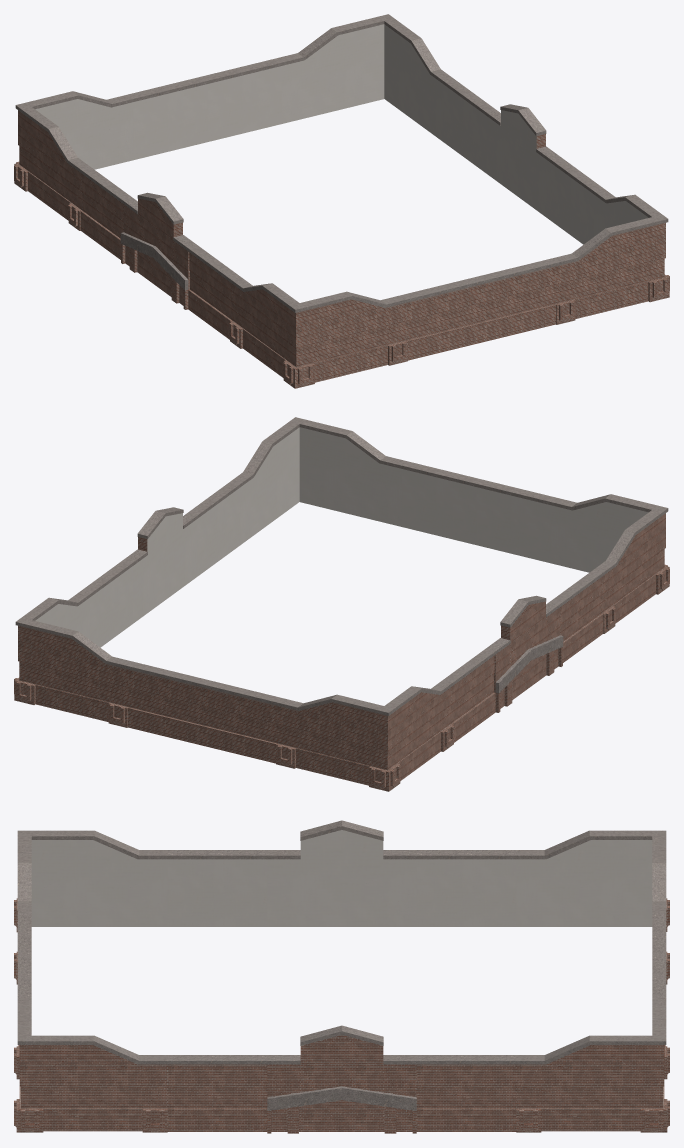
Rendered from BuildingB_Top_VarA.fbx.
3 views of the same model, one above another, from view 1: azimuth 30°, elevation 25°; view 2: azimuth 150°, elevation 25°; view 3: azimuth 270°, elevation 25° (orthographic). The views are drawn at different scales.
Parts seen in each view (by area): view 1: BuildingB_Top_VarA; view 2: BuildingB_Top_VarA; view 3: BuildingB_Top_VarA.
Part boxes in pixels (x1,y1,x2,y2): BuildingB_Top_VarA: (14,14,669,388); BuildingB_Top_VarA: (14,417,669,791); BuildingB_Top_VarA: (14,820,669,1133).
Size of the model in its own units: 2036 by 448 by 2636.
